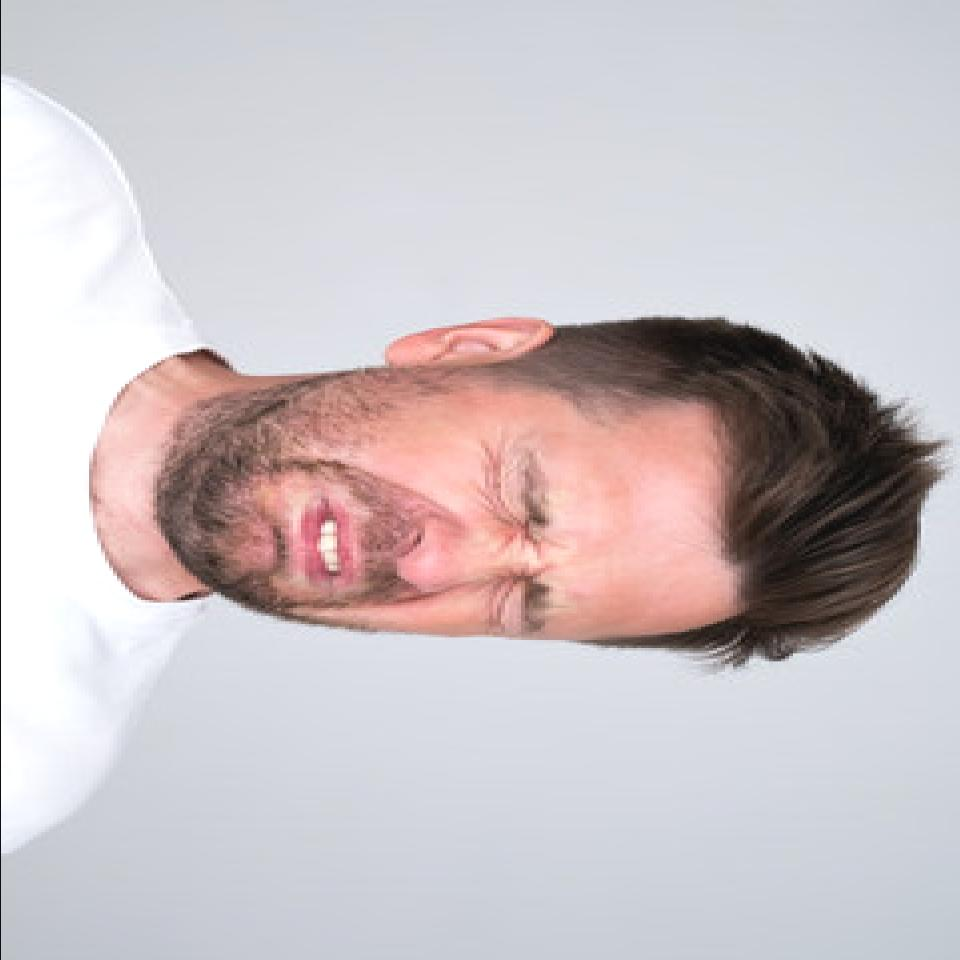Disgust: (193, 367, 750, 644)
